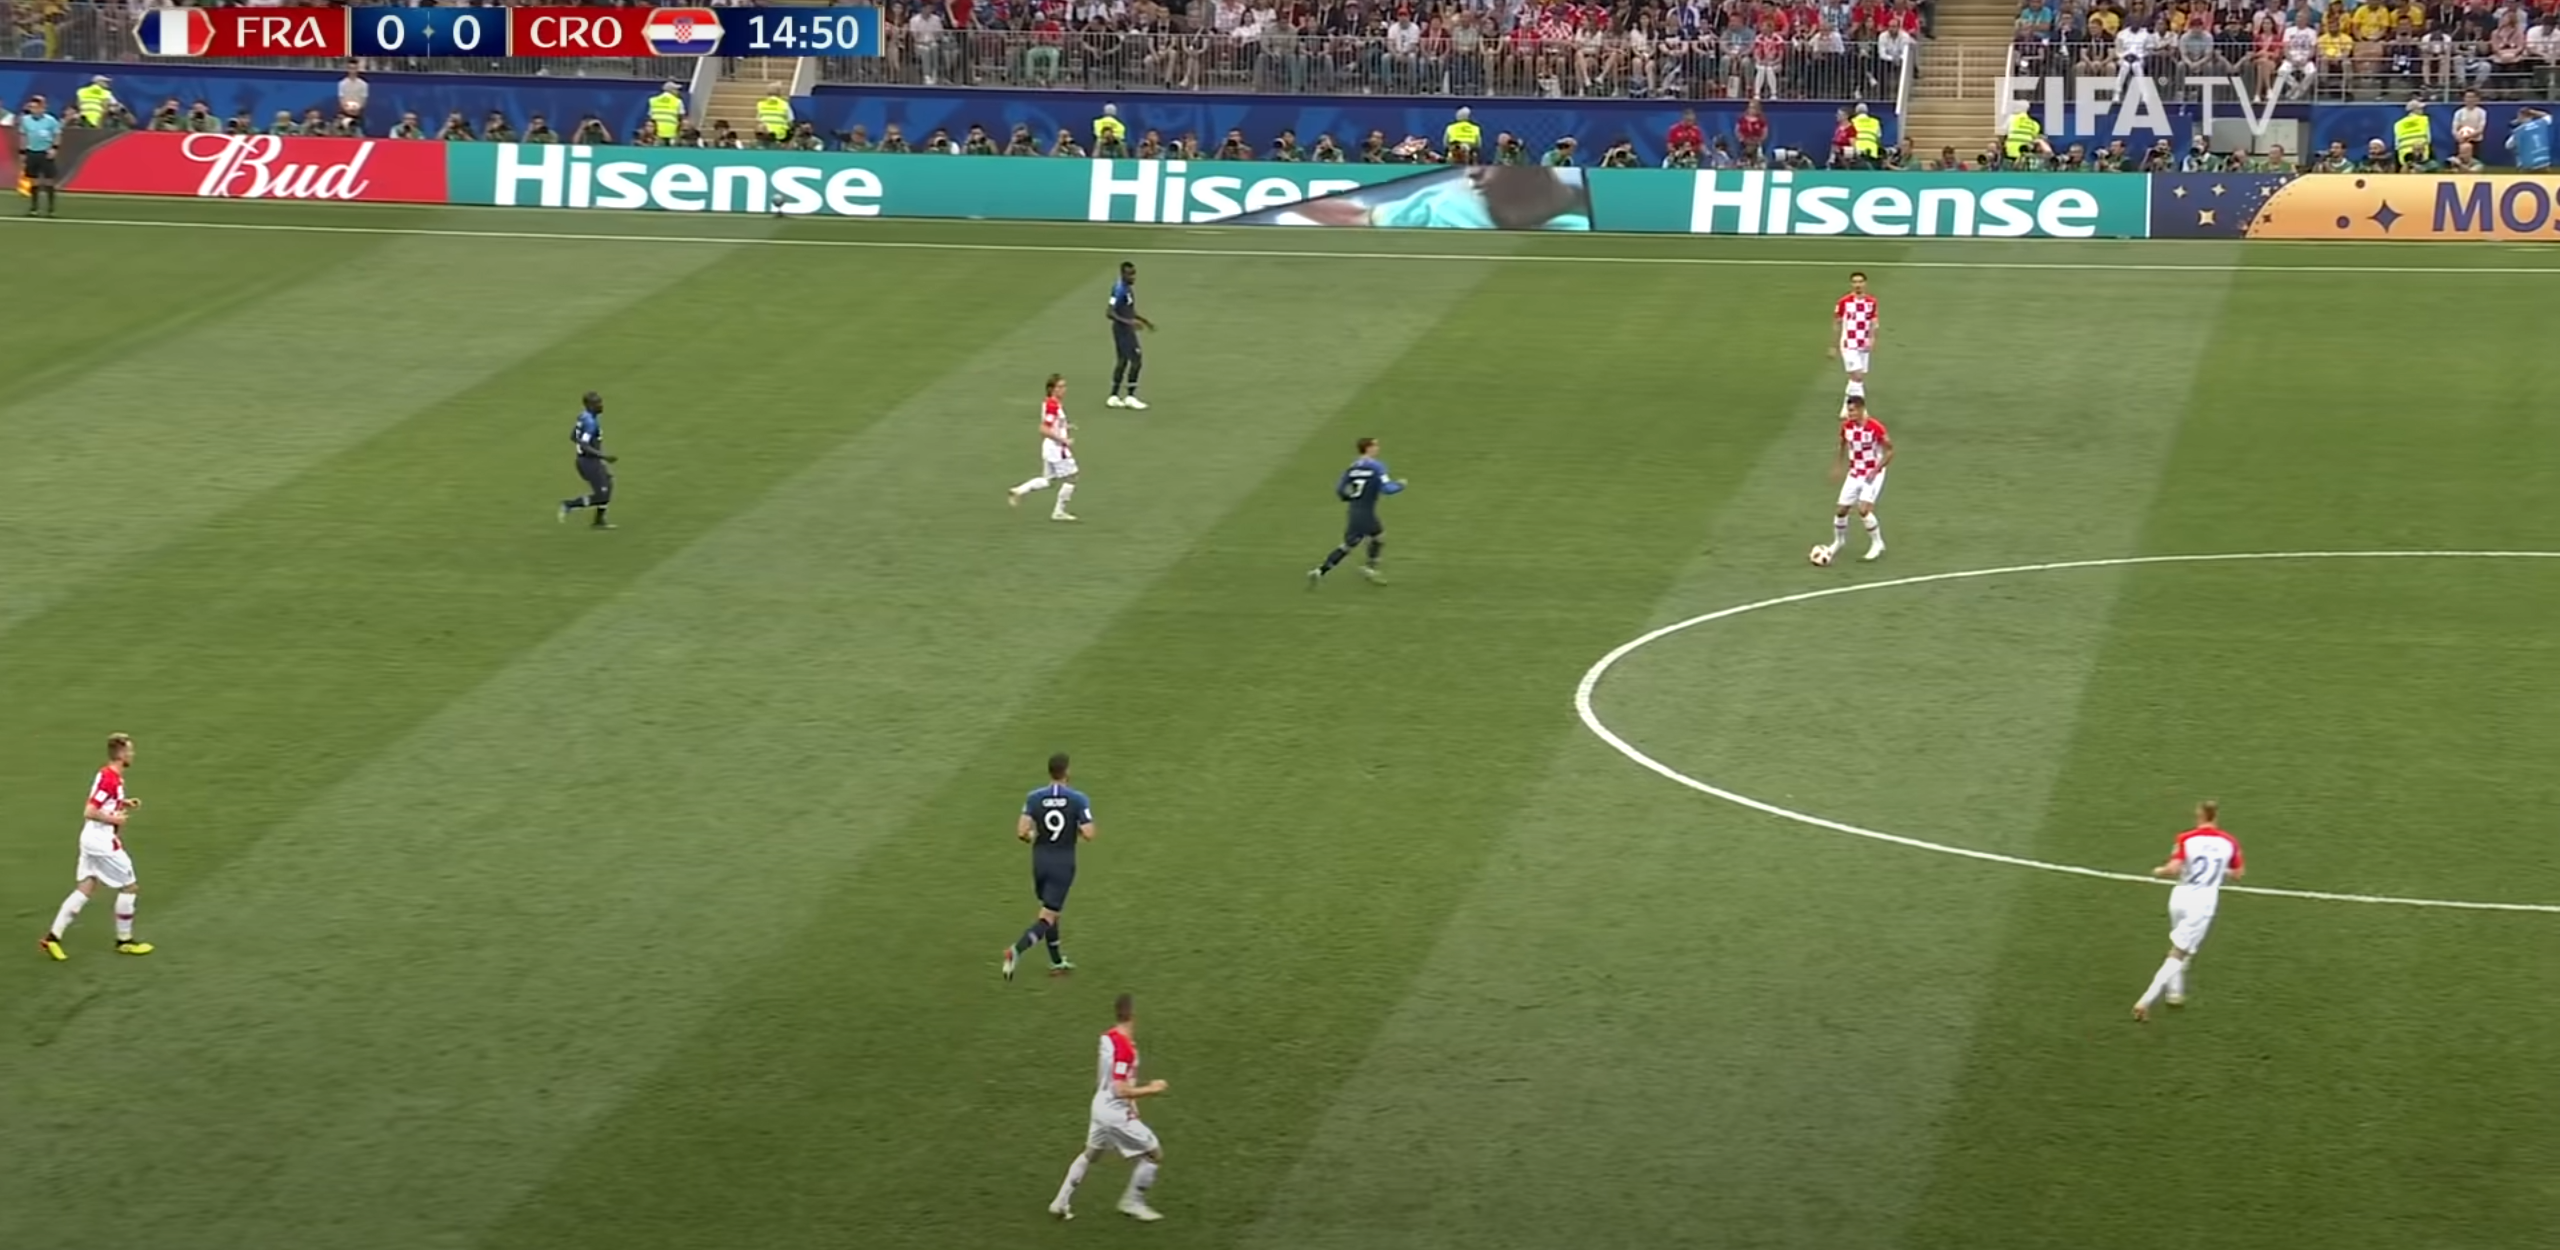Ball: (1802, 543, 1837, 571)
Referee: (13, 100, 64, 219)
Team A: (1050, 994, 1171, 1226), (39, 733, 157, 963), (2131, 800, 2245, 1025), (1006, 372, 1082, 522), (1830, 397, 1896, 563), (1825, 271, 1882, 419)
Team B: (1002, 752, 1096, 981), (1306, 436, 1411, 587), (562, 387, 619, 534), (1104, 263, 1159, 410)
